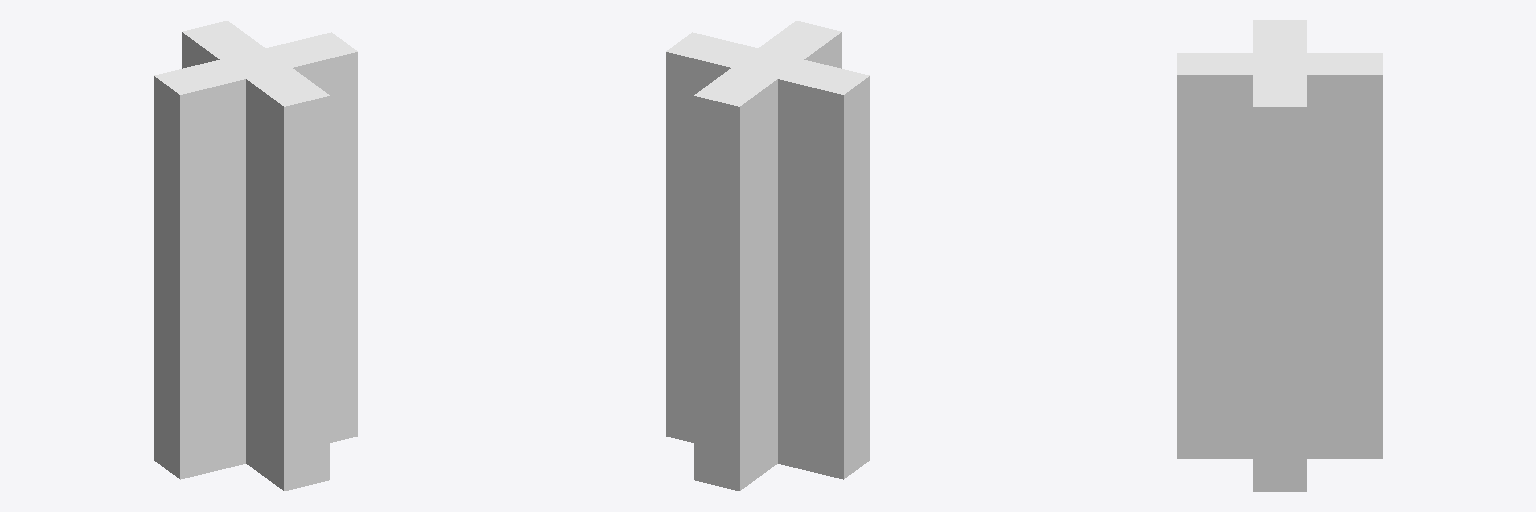
URDF robot description (Cross_cube_cap):
<?xml version="1.0" ?>
<robot name="Cross_cube_cap">
  <link name="baseLink">
    <contact>
    	<friction_anchor/>
    	   <lateral_friction value="1.0"/>
    </contact>
    <inertial>
      <origin rpy="0 0 0" xyz="0 0 0"/>
       <!-- mass controls penetration -->
       <inertia ixx="1e-4" ixy="0" ixz="0" iyy="1e-4" iyz="0" izz="1e-4"/>
    </inertial>
    <visual>
      <origin rpy="0 0 0" xyz="0 0 0"/>
      <geometry>
        <mesh filename="Cross_cube_cap.obj" scale="0.6 0.6 0.6"/>
      </geometry>
       <material name="white">
        <color rgba="1 1 1 1"/>
      </material>
    </visual>
    <collision>
      <origin rpy="0 0 0" xyz="0 0 0"/>
      <geometry>
        <mesh filename="Cross_cube_cap.obj" scale="0.6 0.6 0.6"/>
      </geometry>
      <sdf resolution="300"/>
    </collision>
  </link>
</robot>

--- Facts derived from the render (not from the file) ---
3 views of the same robot in one strip: view 1: azimuth 30°, elevation 25°; view 2: azimuth 150°, elevation 25°; view 3: azimuth 270°, elevation 25° (orthographic).
Robot: Cross_cube_cap — 1 links, 0 joints (none); root link baseLink; default pose: every joint at zero.
Visible links, largest first — view 1: baseLink; view 2: baseLink; view 3: baseLink.
Boxes of the visible links, x1=… form: baseLink: x1=154, y1=21, x2=357, y2=490; baseLink: x1=666, y1=21, x2=869, y2=490; baseLink: x1=1177, y1=20, x2=1382, y2=491.
Size in the robot's own frame: 0.0291 by 0.0291 by 0.0601 metres.
1 mesh visuals loaded from 1 distinct referenced files (1 OBJ).